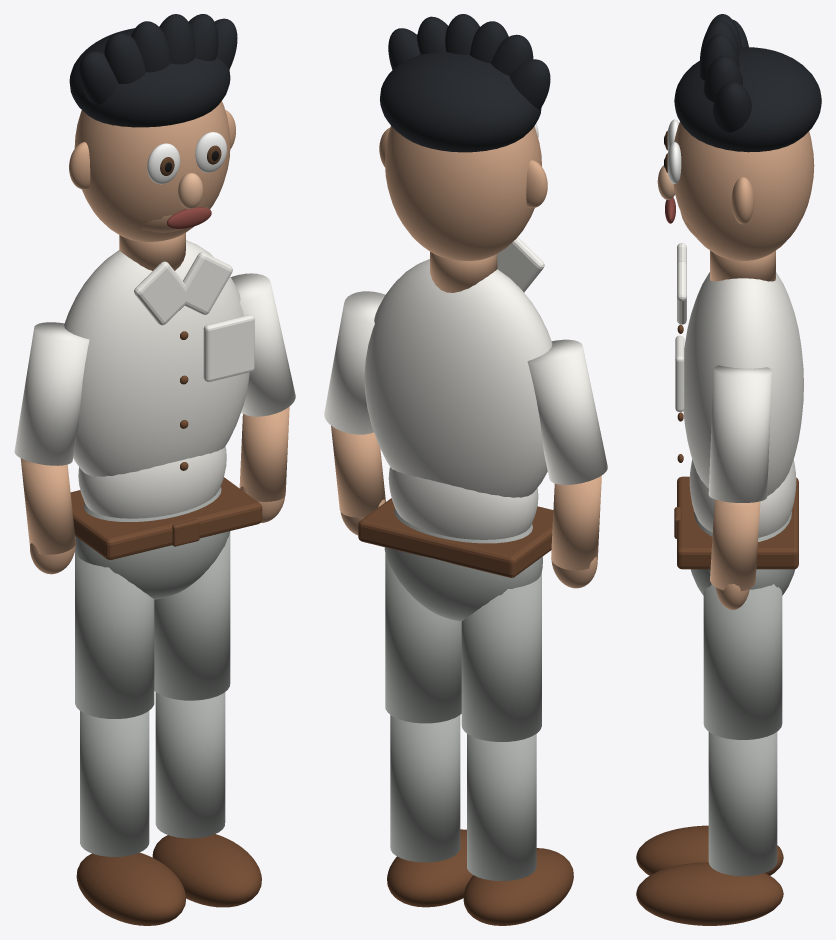
Rendered from male2.fbx.
3 views of the same model, side by side, from view 1: azimuth 30°, elevation 25°; view 2: azimuth 150°, elevation 25°; view 3: azimuth 270°, elevation 25° (orthographic). The views are drawn at different scales.
Parts seen in each view (by area): view 1: Torso, Head, Thigh, Shin.001, Shin, Thigh.001, Sleeve, HairCap, Waist, Shoe, Belt, Shoe.001 (+21 smaller); view 2: Torso, Head, HairCap, Thigh, Shin.001, Shin, Thigh.001, Sleeve, Waist, Belt, Pelvis, Sleeve.001 (+14 smaller); view 3: Torso, Head, Thigh.001, Shin.001, HairCap, Sleeve.001, Shoe.001, Belt, Forearm.001, Shoe, Waist, HairLock.005 (+11 smaller).
Part boxes in pixels (box(x1,y1,x2,y2)): Torso: box(64, 240, 249, 476); Head: box(74, 101, 230, 241); Thigh: box(75, 551, 154, 718); Shin.001: box(155, 692, 225, 838); Shin: box(80, 711, 149, 856); Thigh.001: box(154, 531, 230, 700); Sleeve: box(14, 322, 89, 465); HairCap: box(69, 28, 230, 127); Waist: box(78, 446, 226, 518); Shoe: box(76, 852, 185, 925); Belt: box(70, 477, 262, 559); Shoe.001: box(152, 834, 261, 907); Torso: box(364, 259, 552, 497); Head: box(385, 126, 541, 260); HairCap: box(380, 51, 541, 152); Thigh: box(461, 572, 541, 741); Shin.001: box(390, 715, 460, 862); Shin: box(467, 734, 536, 880); Thigh.001: box(385, 554, 461, 723); Sleeve: box(527, 339, 607, 484); Waist: box(388, 467, 538, 539); Belt: box(358, 498, 553, 577); Pelvis: box(384, 508, 542, 621); Sleeve.001: box(324, 291, 385, 434); Torso: box(683, 272, 803, 496); Head: box(673, 122, 814, 260); Thigh.001: box(703, 584, 782, 739); Shin.001: box(708, 732, 777, 876); HairCap: box(674, 47, 821, 152); Sleeve.001: box(708, 365, 772, 502); Shoe.001: box(636, 862, 783, 925); Belt: box(677, 476, 798, 569); Forearm.001: box(710, 499, 760, 591); Shoe: box(636, 825, 783, 875); Waist: box(689, 459, 796, 537); HairLock.005: box(712, 82, 751, 132).
Size of the model in its own units: 123 by 378 by 73.
